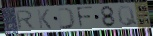8: (100, 5, 117, 29)
D: (56, 7, 77, 30)
F: (75, 6, 94, 29)
K: (36, 8, 53, 30)
Q: (117, 5, 139, 28)
R: (15, 9, 37, 32)
